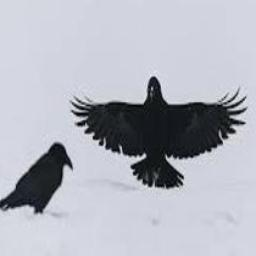Crow: (71, 75, 249, 189), (0, 141, 73, 213)
